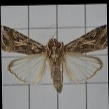Spodoptera litura: (1, 23, 108, 94)
